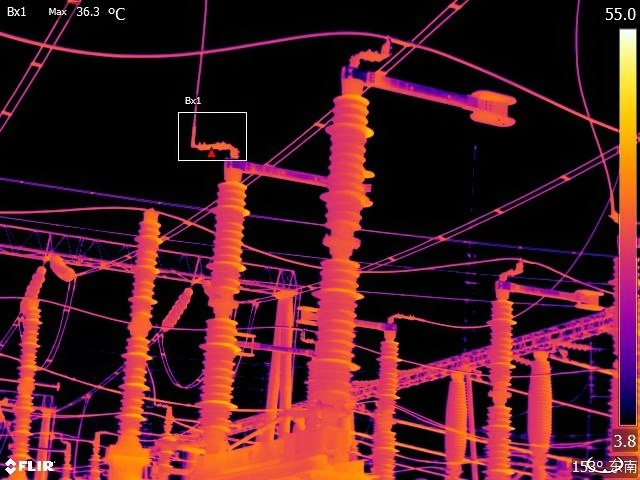circuit breaker: (524, 334, 561, 456), (438, 364, 473, 480)
insulator: (16, 260, 50, 322), (158, 283, 195, 337), (43, 250, 81, 285)
post insulator: (306, 87, 372, 385), (109, 204, 166, 442), (195, 176, 248, 419), (6, 293, 46, 474), (482, 295, 516, 475), (368, 335, 405, 480)
switch: (334, 51, 522, 131), (219, 153, 370, 192), (495, 273, 604, 313), (298, 304, 399, 334)
